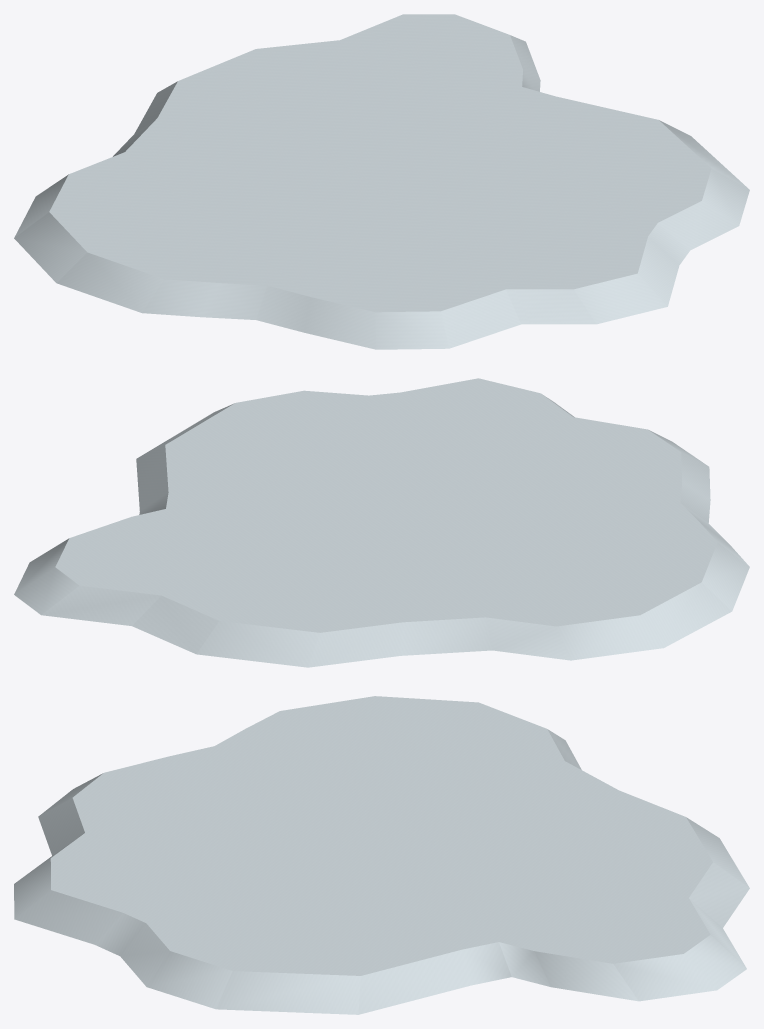
File: snow-ground.glb
3 views of the same model, one above another, from view 1: azimuth 30°, elevation 25°; view 2: azimuth 150°, elevation 25°; view 3: azimuth 270°, elevation 25° (orthographic). The views are drawn at different scales.
Parts seen in each view (by area): view 1: snow-ground-snow-flat-large; view 2: snow-ground-snow-flat-large; view 3: snow-ground-snow-flat-large.
Part boxes in pixels (x1,y1,x2,y2): snow-ground-snow-flat-large: (14, 14, 749, 349); snow-ground-snow-flat-large: (14, 378, 749, 667); snow-ground-snow-flat-large: (14, 696, 749, 1014).
Size of the model in its own units: 8 by 0.28 by 8.
1 material, 1 textured.
